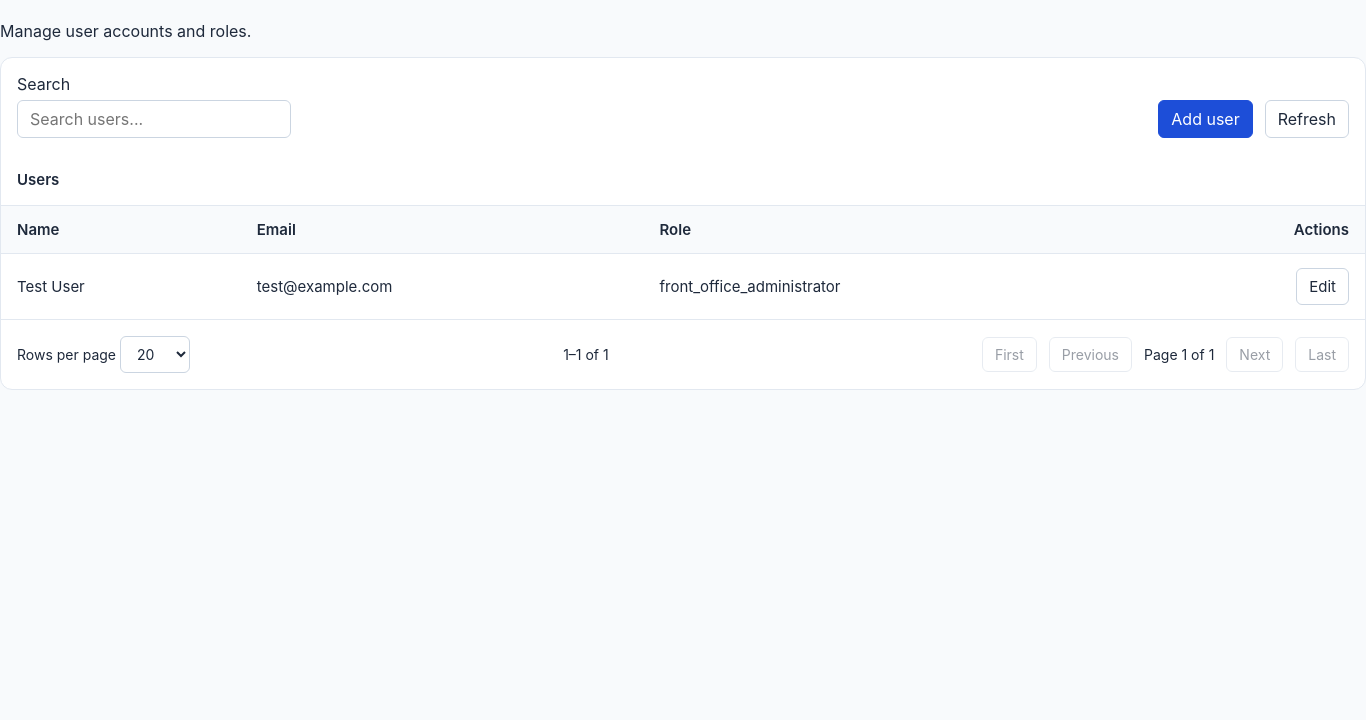
Test: Users page › loads the first page with no status controls and blocks invalid create payloads
Expected: the table shows "test@example.com", [257, 277, 392, 296]
Click the button "Add user".
click(1206, 119)  # box [1158, 100, 1253, 138]
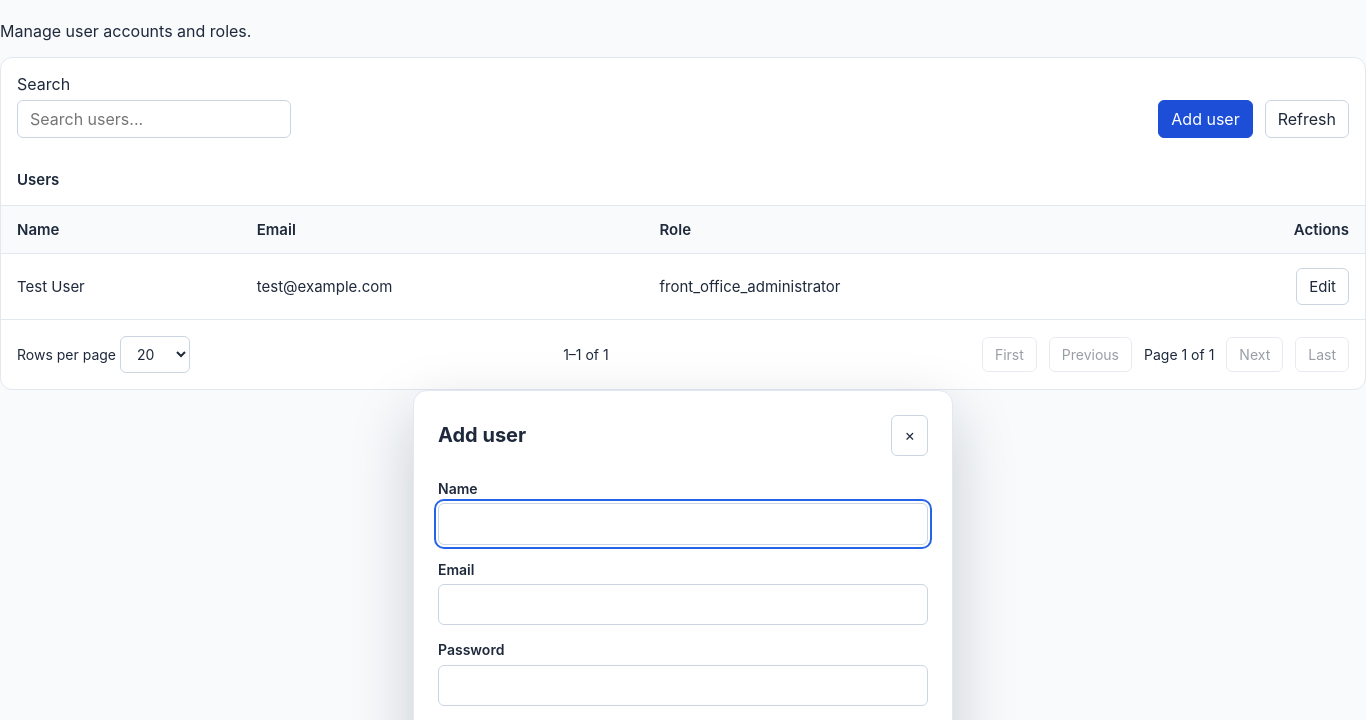
Type "not-an-email" into the field named "email".
click(683, 605); type("not-an-email")  # box [438, 584, 928, 625]
(page scrolled)
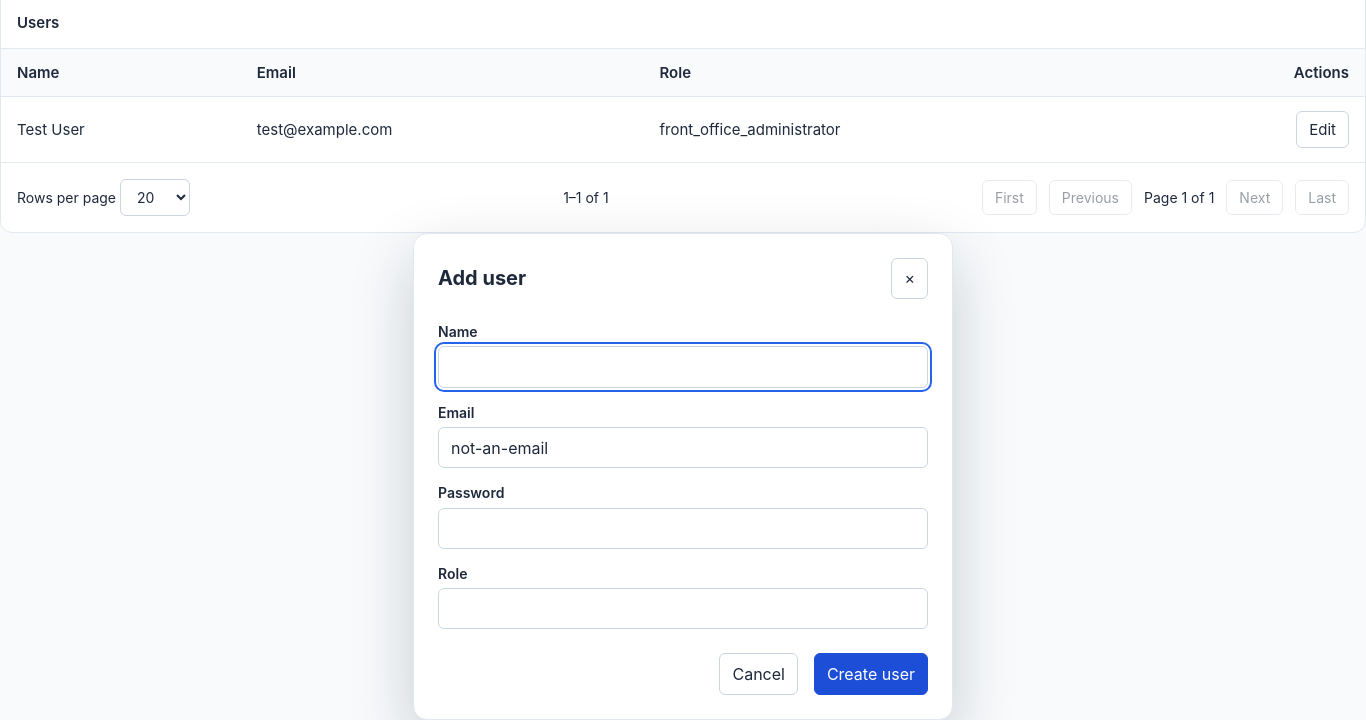
Submit the form, box [438, 258, 928, 694]
(page scrolled)
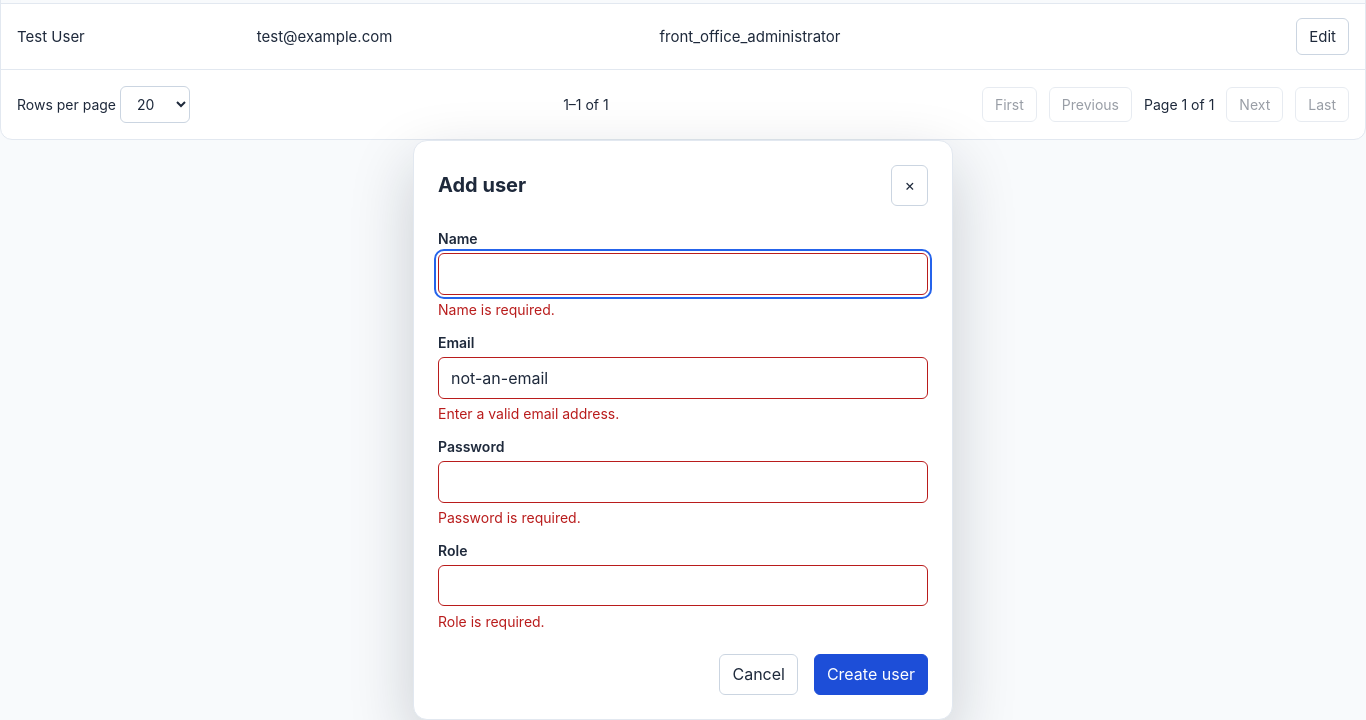
Expected: the dialog shows "Name is required.", [438, 301, 555, 318]
Expected: the dialog shows "Enter a valid email address.", [438, 405, 619, 422]
Expected: the dialog shows "Password is required.", [438, 509, 581, 526]
